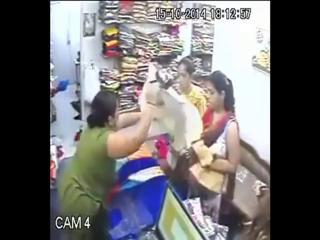Normal: (56, 78, 161, 238), (193, 70, 271, 193)
